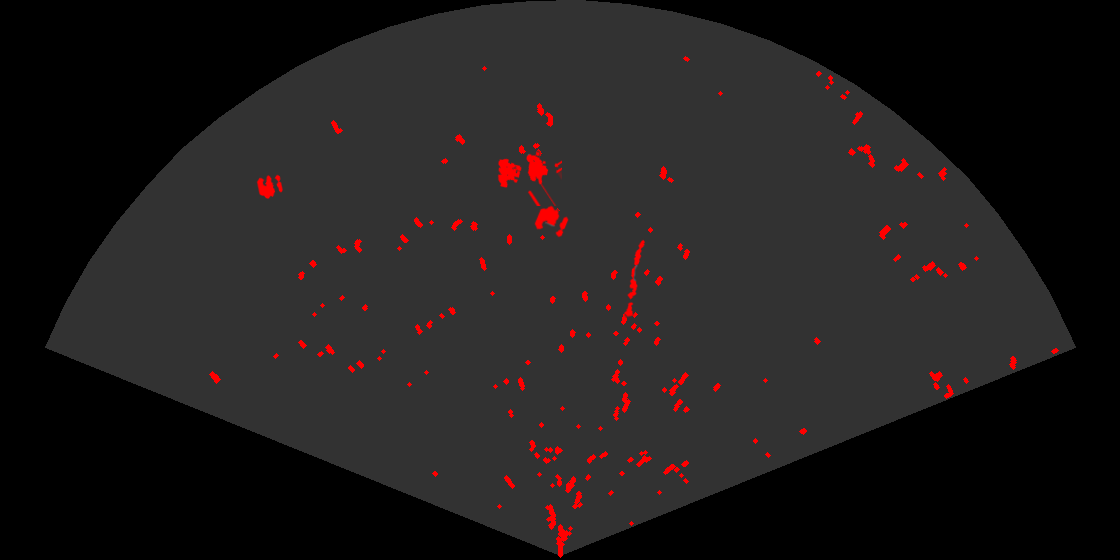ball: (533, 204, 570, 239), (255, 173, 284, 200)
cage: (496, 150, 562, 206)
chain: (623, 238, 646, 318)
